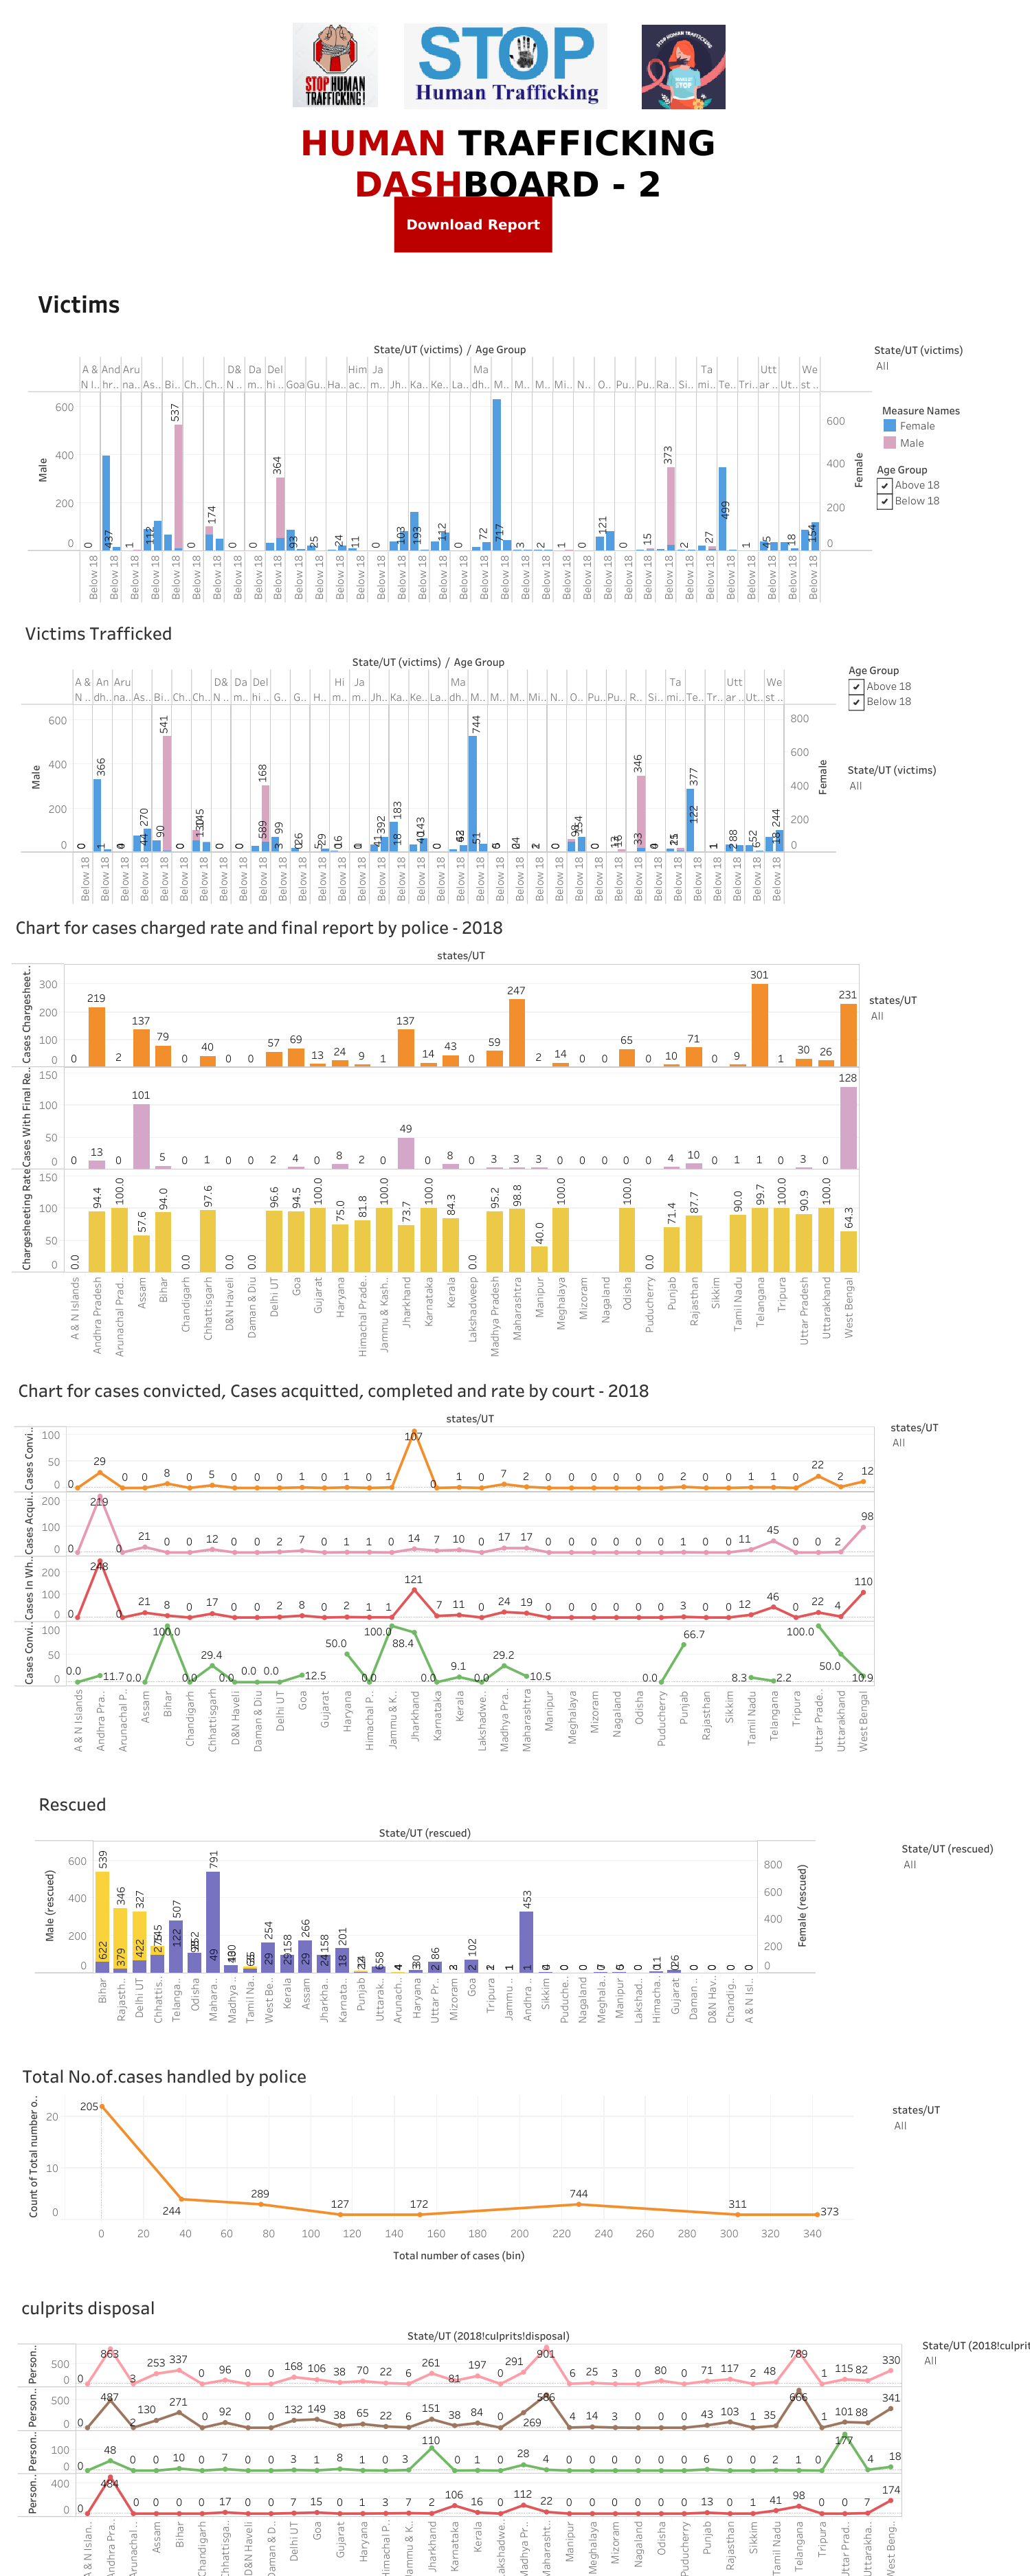

What the dashboard file says about the page in this screenshot:
{"tool":"tableau","page":{"name":"Dashboard 2","canvas":[1200,3000],"ordinal":1},"visuals":[{"type":"image","param":"Image/ht1.png","box":[470,26.7,226,156.7]},{"type":"image","param":"Image/49203023-human-trafficking-vector-template.jpg","box":[343,43.3,79,128.3]},{"type":"image","param":"Image/help-prevent-human-trafficking-and-protect-human-rights-free-vector.jpg","box":[732,43.3,77,120]},{"type":"text","box":[215,141,753,99]},{"type":"dashboard-object","box":[459,229,184,65]},{"type":"text","box":[21,329,142,48]},{"type":"worksheet","title":"victims","mark":"Bar","rows":["Male","Female"],"cols":["State/UT (victims)","Age Group"],"box":[33,381,983,321]},{"type":"filter","title":"victims","param":"[federated.0udtcgz0uy6kuo10yd5kz0gbycxc].[none:State/UT (victims):nk]","box":[1018,397,160,74]},{"type":"legend","title":"victims","param":"[federated.0udtcgz0uy6kuo10yd5kz0gbycxc].[:Measure Names]","box":[1026,466,140,115]},{"type":"filter","title":"victims","param":"[federated.0udtcgz0uy6kuo10yd5kz0gbycxc].[none:Age Group:nk]","box":[1021,536,160,135]},{"type":"worksheet","title":"Victims Trafficked","mark":"Bar","rows":["Male","Female"],"cols":["State/UT (victims)","Age Group"],"box":[25,717,949,336]},{"type":"filter","title":"Victims Trafficked","param":"[federated.0udtcgz0uy6kuo10yd5kz0gbycxc].[none:Age Group:nk]","box":[988,770,160,135]},{"type":"filter","title":"Victims Trafficked","param":"[federated.0udtcgz0uy6kuo10yd5kz0gbycxc].[none:State/UT (victims):nk]","box":[987,886,160,74]},{"type":"worksheet","title":"police 1","mark":"Automatic","rows":["cases chargesheeted by police","cases with final reports by police","chargesheeting rate"],"cols":["states/UT"],"box":[14,1059,987,523]},{"type":"filter","title":"police 1","param":"[federated.0udtcgz0uy6kuo10yd5kz0gbycxc].[none:states/UT:nk]","box":[1012,1154,160,73]},{"type":"worksheet","title":"police 2","mark":"Line","rows":["cases convicted by court","cases acquitted/discharged by court","cases in which trails were completed","cases conviction rate"],"cols":["states/UT"],"box":[17,1598,1002,444]},{"type":"filter","title":"police 2","param":"[federated.0udtcgz0uy6kuo10yd5kz0gbycxc].[none:states/UT:nk]","box":[1037,1651,160,73]},{"type":"worksheet","title":"rescued","mark":"Bar","rows":["Male (rescued)","Female (rescued)"],"cols":["State/UT (rescued)"],"box":[41,2080,909,278]},{"type":"worksheet","title":"police(total number of cases)","mark":"Line","rows":["Total number of cases"],"cols":["Total number of cases (bin)"],"box":[22,2397,972,244]},{"type":"filter","title":"police(total number of cases)","param":"[federated.0udtcgz0uy6kuo10yd5kz0gbycxc].[none:states/UT:nk]","box":[1039,2446,160,44]},{"type":"worksheet","title":"culprits disposal","mark":"Line","rows":["Persons Arrested","Persons Chargesheeted","Persons Convicted","Persons Acquitted/ discharged by the Court"],"cols":["State/UT (2018!culprits!disposal)"],"box":[21,2666,1030,339]}]}

Visuals, with their boxes in screenshot pixels (x1, y1, x2, y2), scaled from the page's 1200x3000 canvas onto the 1030x2576 screenshot:
image: 403,23,597,157
image: 294,37,362,147
image: 628,37,695,140
text: 185,121,831,206
dashboard-object: 394,197,552,252
text: 18,282,140,324
"victims" worksheet (Bar marks): 28,327,872,603
"victims" filter: 874,341,1011,405
"victims" legend: 881,400,1001,499
"victims" filter: 876,460,1014,576
"Victims Trafficked" worksheet (Bar marks): 21,616,836,904
"Victims Trafficked" filter: 848,661,985,777
"Victims Trafficked" filter: 847,761,985,825
"police 1" worksheet: 12,909,859,1358
"police 1" filter: 869,991,1006,1053
"police 2" worksheet (Line marks): 14,1372,875,1754
"police 2" filter: 890,1418,1027,1480
"rescued" worksheet (Bar marks): 35,1786,816,2025
"police(total number of cases)" worksheet (Line marks): 19,2058,853,2267
"police(total number of cases)" filter: 892,2101,1029,2138
"culprits disposal" worksheet (Line marks): 18,2289,902,2575
